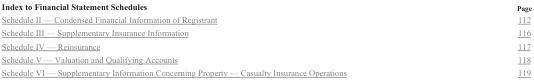table: (0, 1, 530, 77)
table column: (0, 1, 430, 77), (430, 1, 530, 77)
table column header: (0, 1, 530, 13)
table row: (0, 25, 530, 39), (0, 39, 530, 52), (0, 52, 530, 65), (0, 1, 530, 13), (0, 13, 530, 25), (0, 65, 530, 77)
